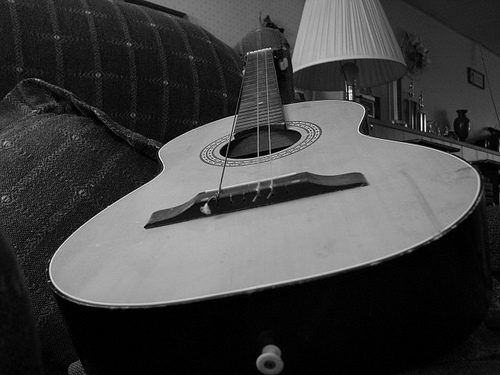guitar: (48, 45, 493, 375)
